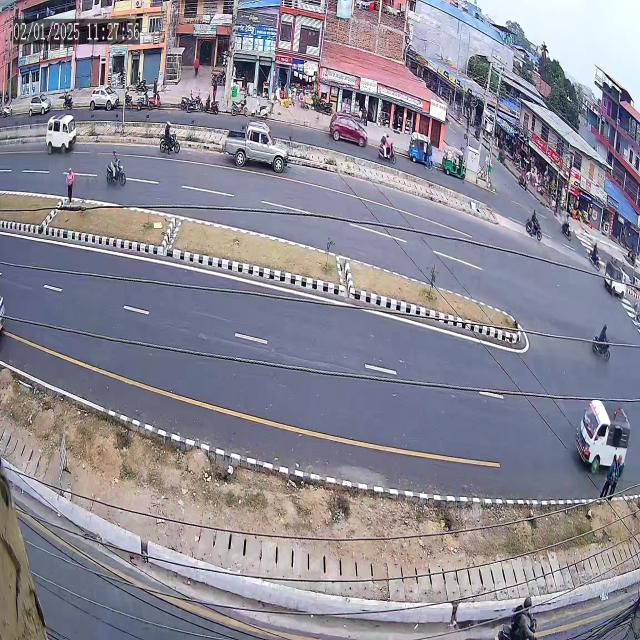motorcycle: (99, 145, 133, 195), (590, 319, 622, 365), (520, 205, 548, 253), (156, 115, 182, 164)
van: (566, 389, 633, 481), (40, 105, 82, 159)
